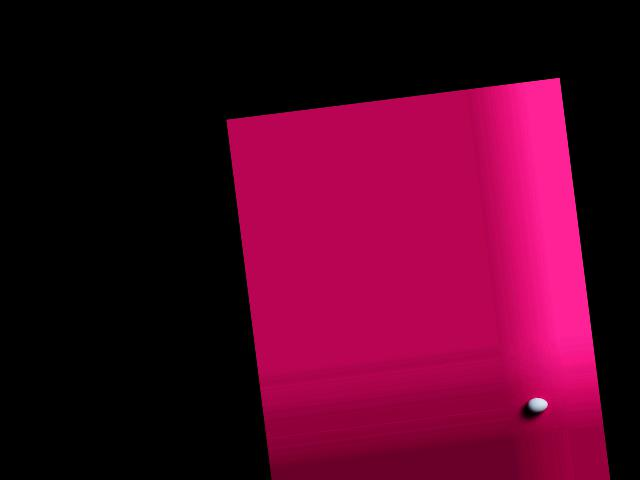egg: (525, 395, 548, 413)
